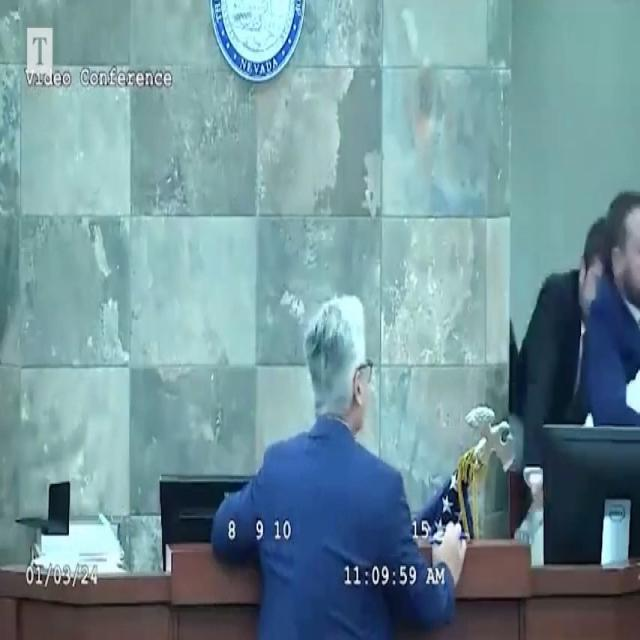fight: (507, 183, 640, 560)
non-fight: (205, 289, 471, 640)
